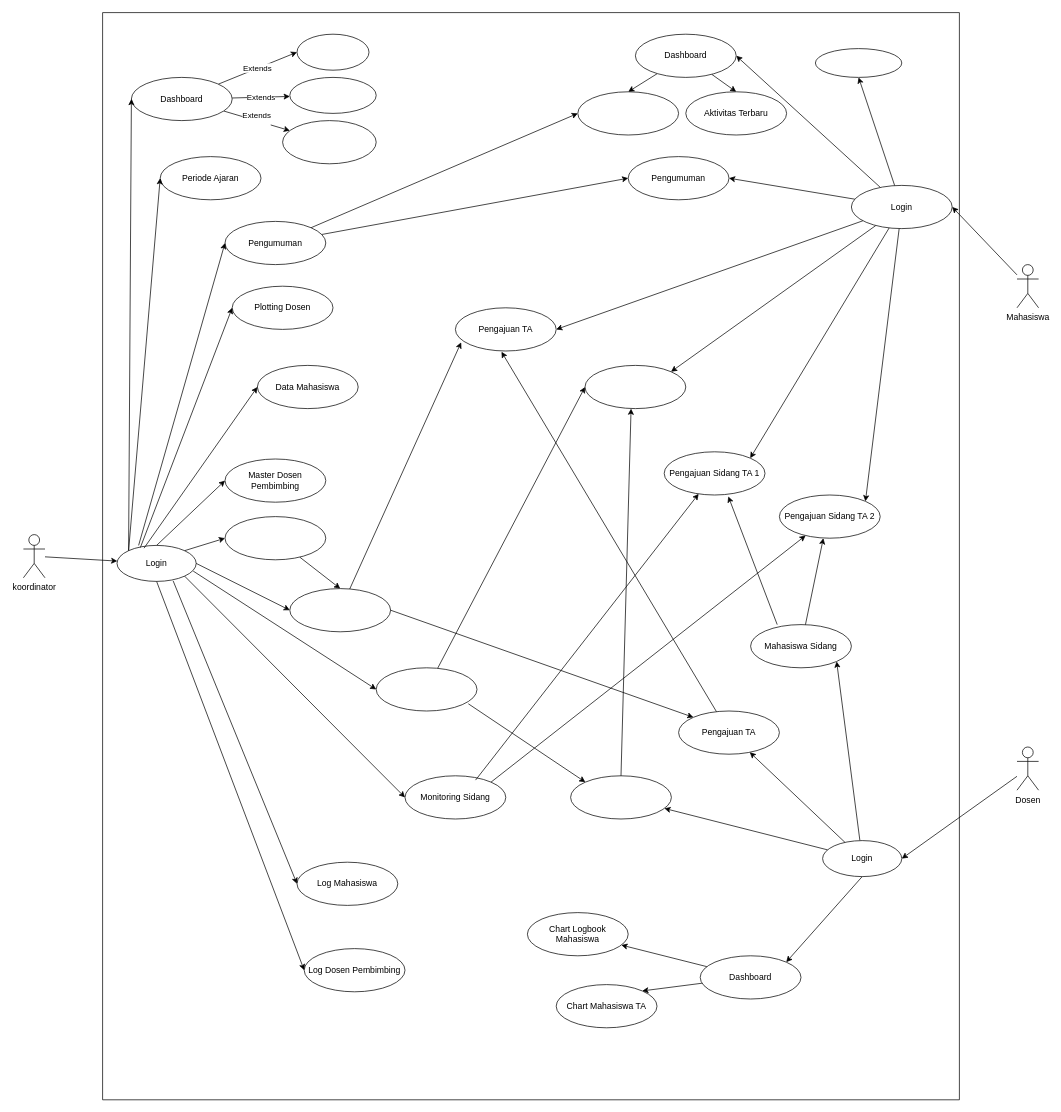
Image size: 1061x1112. Some labels were removed from this diagram. The centre of each missing label's shape, as x and y in pixels:
"Dashboard Kouta Dosen Pembimbing" belongs at point 332,95.
"Dashboard Logbook Mahasiswa" belongs at point 329,142.
"Dashboard Mahasiswa" belongs at point 332,51.
"Informasi SIdang" belongs at point 628,113.
"Kouta Dosen Pembimbing" belongs at point 275,538.
"Logbook Bimbingan TA" belongs at point 635,387.
"Logbook Mahasiswa" belongs at point 620,797.
"Melengkapi Data" belongs at point 858,62.
"Pengajuan Mahasiswa" belongs at point 340,610.
"Rekap Logbook" belongs at point 426,689.
